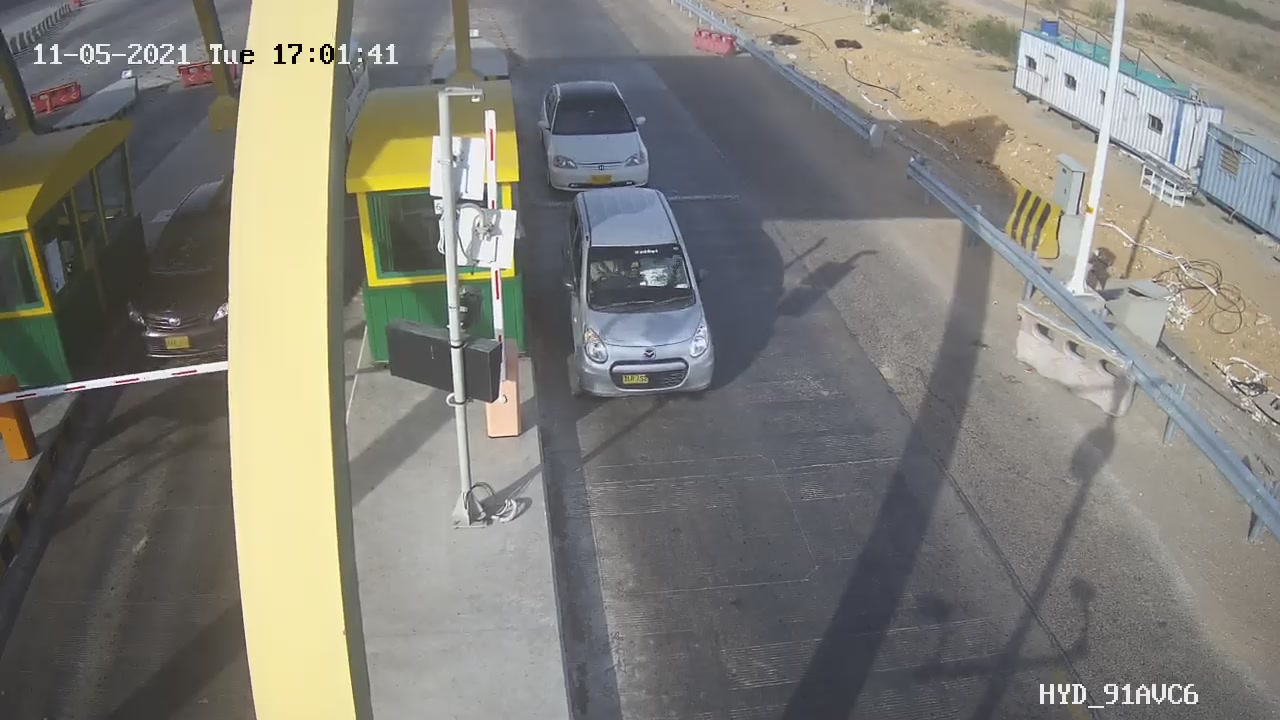F1: (543, 175, 738, 421), (522, 69, 672, 211)
